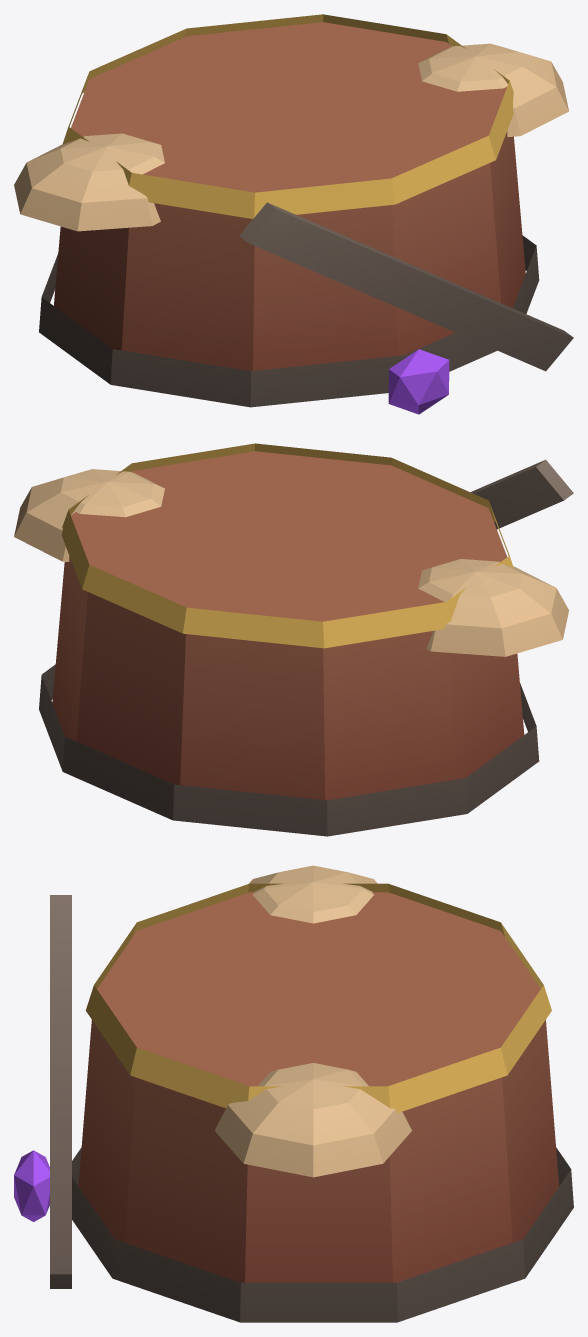
The model's file is berserker_hunter_chest_t3.glb.
3 renders of one model, top to bottom at view 1: azimuth 30°, elevation 25°; view 2: azimuth 150°, elevation 25°; view 3: azimuth 270°, elevation 25°, orthographic. The views are drawn at different scales.
Visible parts, largest first — view 1: berserker_hunter_chest_t3__chest; view 2: berserker_hunter_chest_t3__chest; view 3: berserker_hunter_chest_t3__chest.
Part boxes in pixels (box(x1,y1,x2,y2)): berserker_hunter_chest_t3__chest: box(14, 14, 573, 414); berserker_hunter_chest_t3__chest: box(14, 443, 573, 836); berserker_hunter_chest_t3__chest: box(14, 865, 573, 1322).
Bounding box in the file's own units: 2.69 × 1.1 × 2.19.
Materials: 2 (1 with a texture image).
